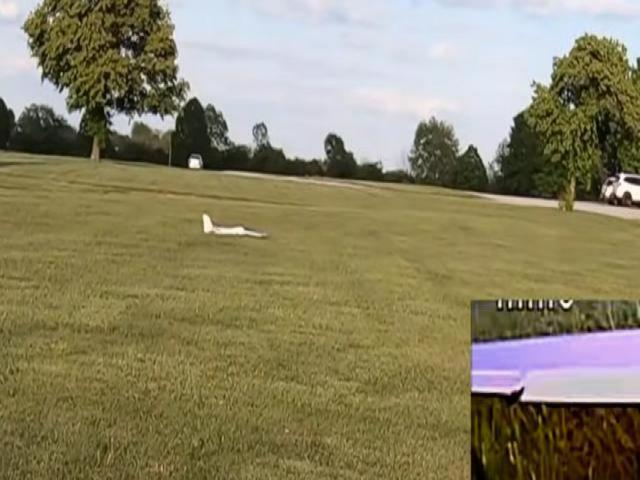iha: (203, 214, 268, 240)
